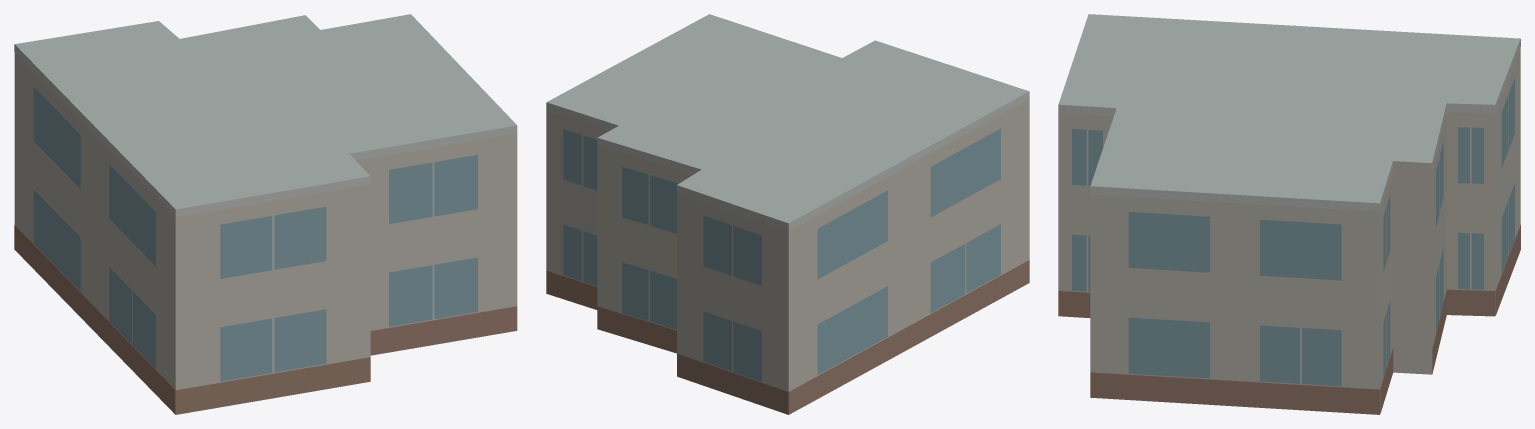
File: survey-upis-32827025.glb
The picture shows the model from 3 angles, left to right: view 1: azimuth 30°, elevation 25°; view 2: azimuth 150°, elevation 25°; view 3: azimuth 270°, elevation 25°; orthographic projection. The views are drawn at different scales.
Visible parts, largest first — view 1: survey-upis-32827025.tmp; view 2: survey-upis-32827025.tmp; view 3: survey-upis-32827025.tmp.
Boxes of the visible parts, box(x1,y1,x2,y2) form: survey-upis-32827025.tmp: box(14, 14, 517, 414); survey-upis-32827025.tmp: box(546, 14, 1029, 414); survey-upis-32827025.tmp: box(1058, 14, 1520, 414).
Bounding box in the file's own units: 11.72 × 6.1 × 12.1.
